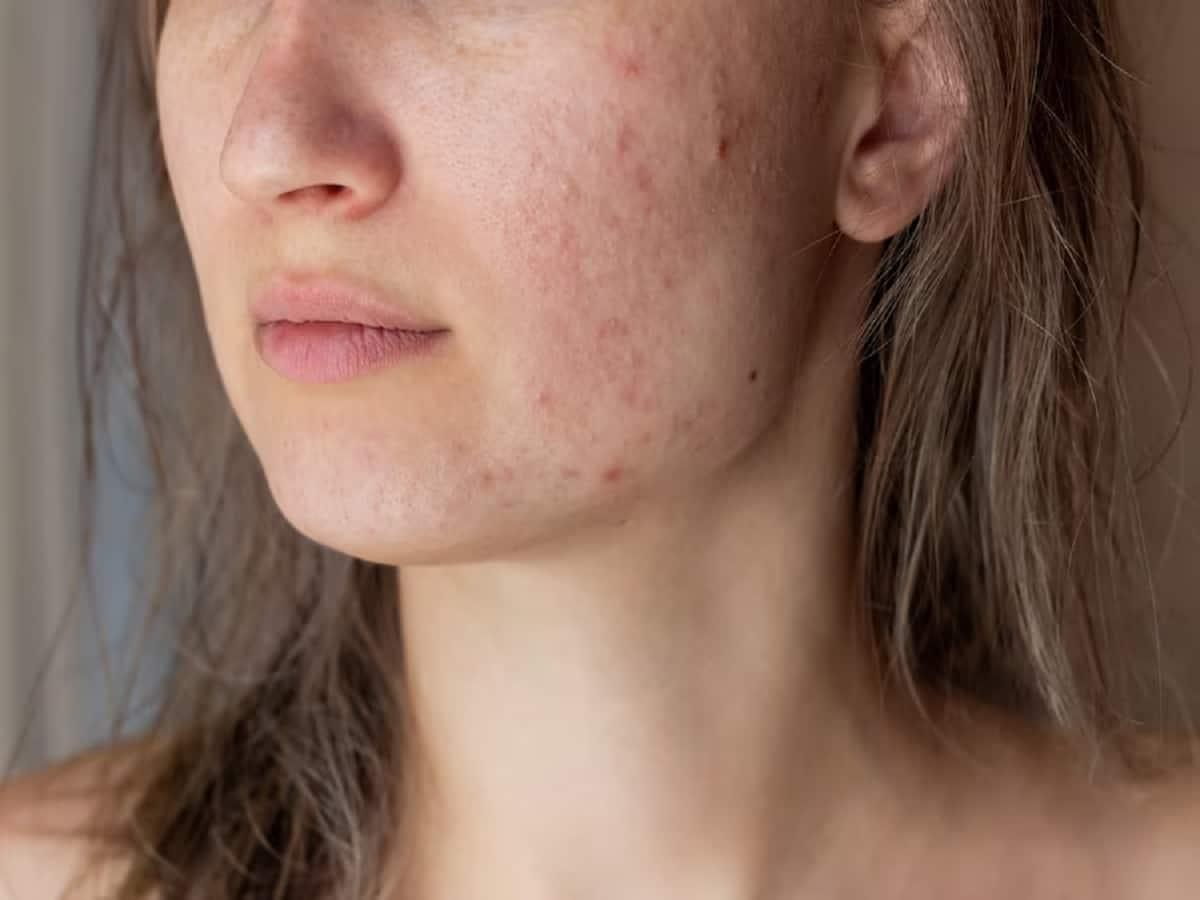acne marks: (436, 56, 729, 494)
